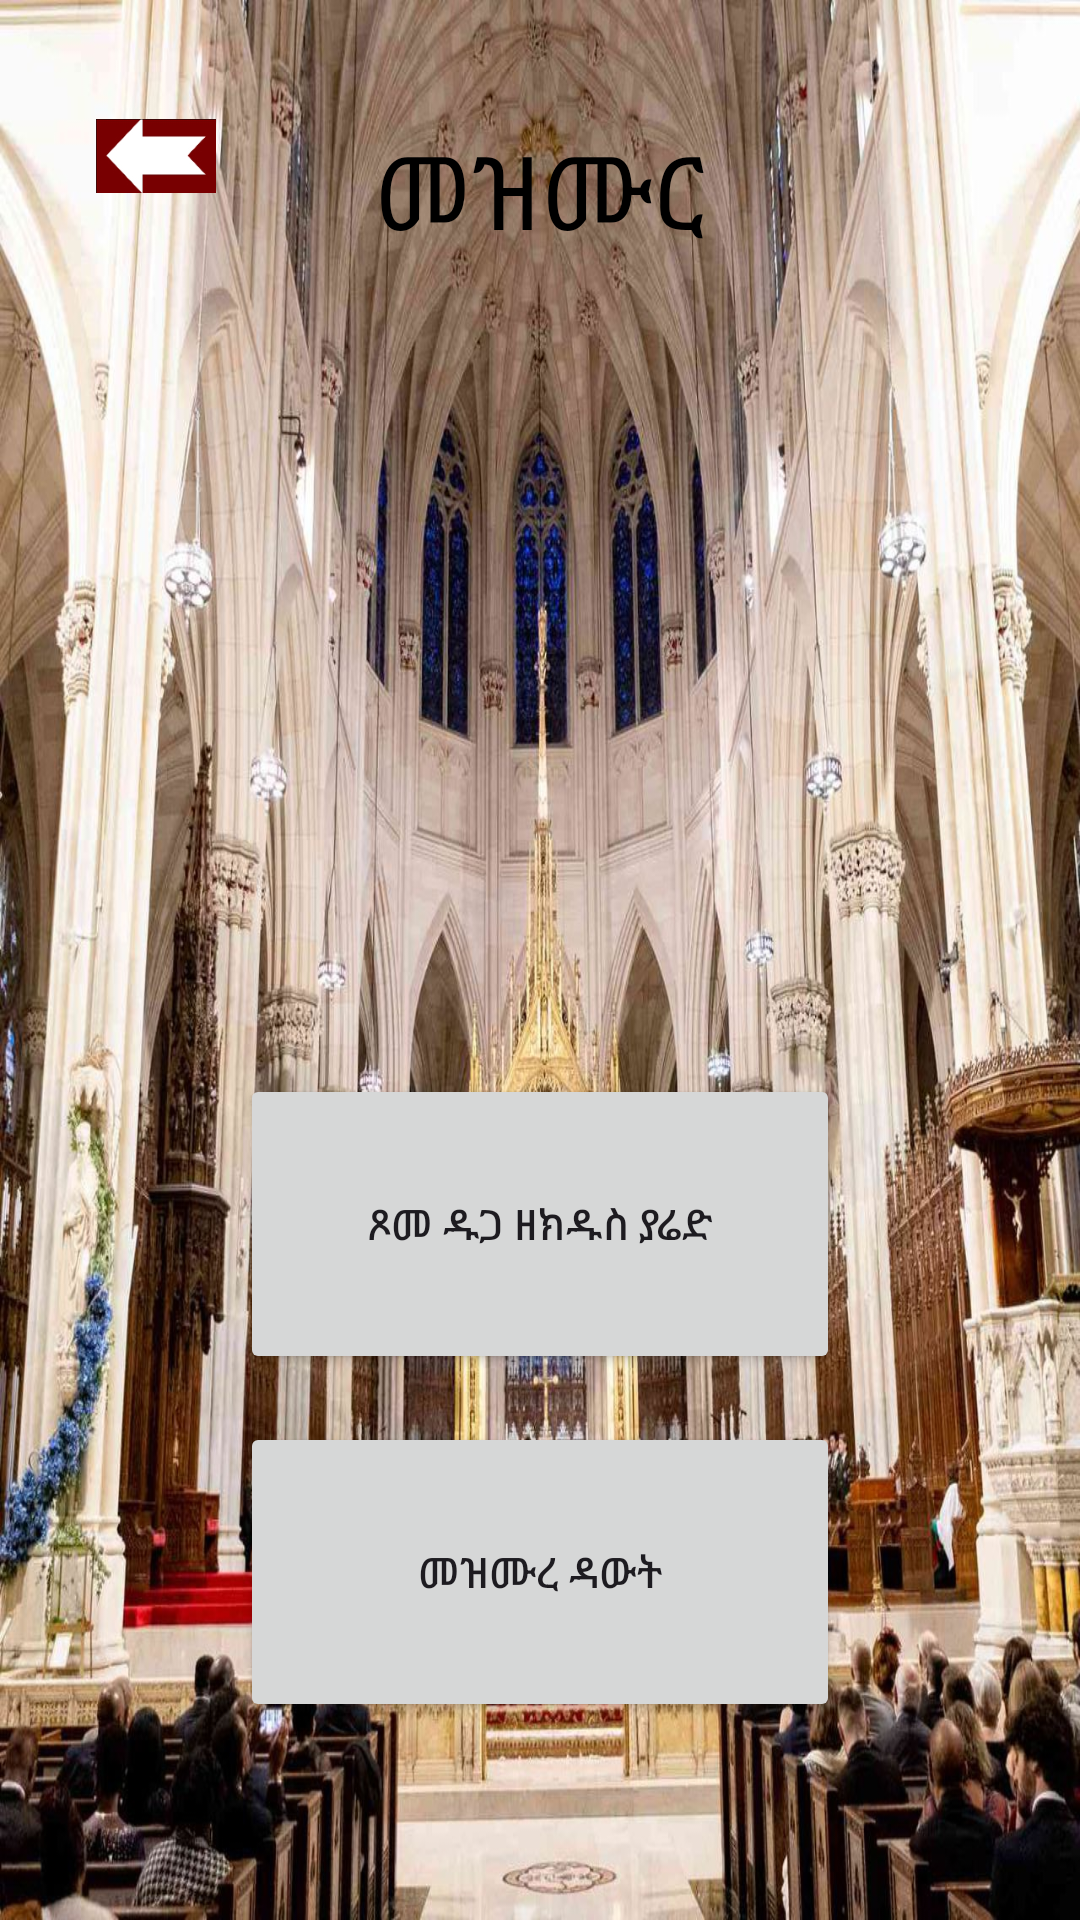

Where to tap for icons on this 1080px×1920px app screen, as [x,y]:
Back Button: [156,156]
